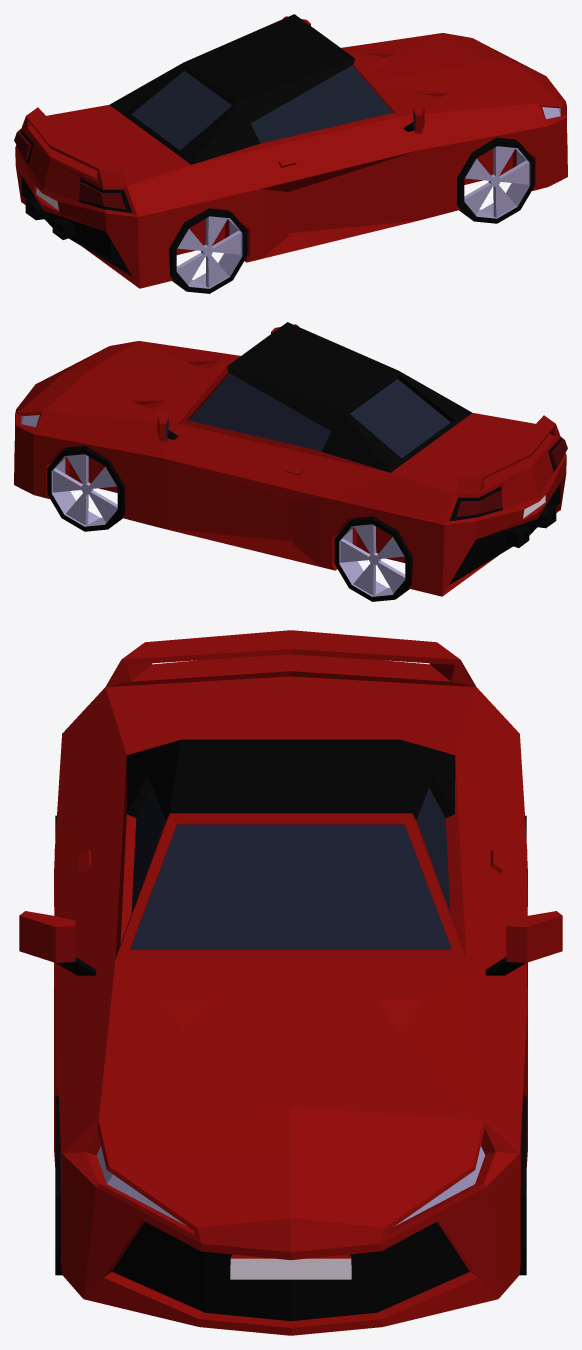
The model's file is sports.glb.
The picture shows the model from 3 angles, top to bottom: view 1: azimuth 30°, elevation 25°; view 2: azimuth 150°, elevation 25°; view 3: azimuth 270°, elevation 25°; orthographic projection. The views are drawn at different scales.
Visible parts, largest first — view 1: body_paint, body_trim, body_glass, wheel_fr_rim, wheel_rr_rim, wheel_fr_tire, wheel_rr_tire, body_tail; view 2: body_paint, body_trim, body_glass, wheel_fl_rim, wheel_rl_rim, wheel_fl_tire, wheel_rl_tire, body_tail; view 3: body_paint, body_trim, body_glass, body_chrome, body_lamp.
Boxes of the visible parts, x1=… form: body_paint: x1=15, y1=16, x2=567, y2=288; body_trim: x1=20, y1=14, x2=414, y2=276; body_glass: x1=131, y1=18, x2=415, y2=150; wheel_fr_rim: x1=464, y1=146, x2=530, y2=218; wheel_rr_rim: x1=176, y1=216, x2=242, y2=288; wheel_fr_tire: x1=459, y1=137, x2=534, y2=223; wheel_rr_tire: x1=172, y1=208, x2=247, y2=293; body_tail: x1=14, y1=129, x2=125, y2=209; body_paint: x1=14, y1=324, x2=566, y2=596; body_trim: x1=167, y1=322, x2=561, y2=584; body_glass: x1=166, y1=326, x2=450, y2=458; wheel_fl_rim: x1=51, y1=454, x2=117, y2=526; wheel_rl_rim: x1=339, y1=524, x2=405, y2=596; wheel_fl_tire: x1=47, y1=445, x2=122, y2=531; wheel_rl_tire: x1=334, y1=516, x2=409, y2=601; body_tail: x1=456, y1=437, x2=567, y2=517; body_paint: x1=19, y1=630, x2=562, y2=1335; body_trim: x1=56, y1=739, x2=525, y2=1321; body_glass: x1=130, y1=787, x2=451, y2=949; body_chrome: x1=230, y1=1258, x2=351, y2=1279; body_lamp: x1=96, y1=1146, x2=485, y2=1225.
Size of the model in its own units: 5.73 by 1.84 by 2.63.
